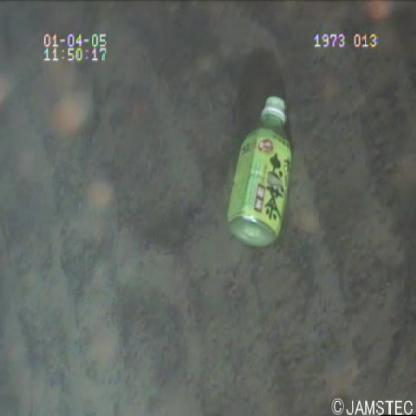Rác: (224, 84, 296, 273)
